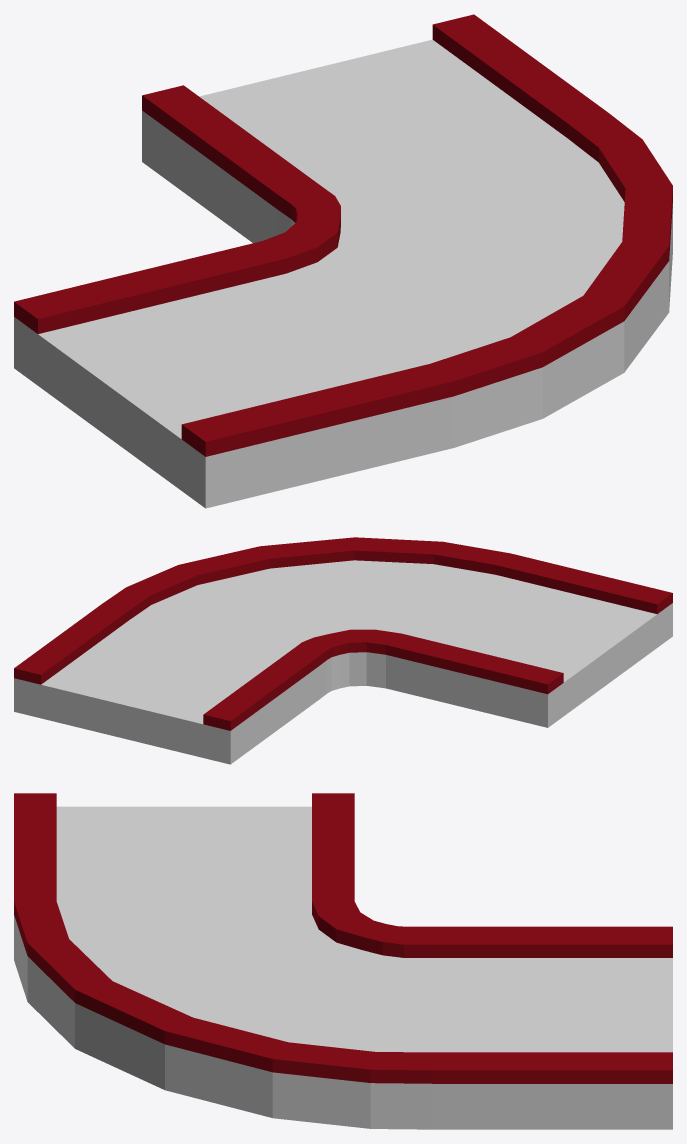
Rendered from HayatinViraji.fbx.
3 views of the same model, one above another, from view 1: azimuth 30°, elevation 25°; view 2: azimuth 150°, elevation 25°; view 3: azimuth 270°, elevation 25° (orthographic). The views are drawn at different scales.
Parts seen in each view (by area): view 1: HayatinViraji; view 2: HayatinViraji; view 3: HayatinViraji.
Part boxes in pixels (box(x1,y1,x2,y2)): HayatinViraji: box(14, 14, 672, 508); HayatinViraji: box(14, 537, 672, 764); HayatinViraji: box(14, 793, 672, 1129).
Bounding box in the file's own units: 3.85 × 0.3838 × 3.87.
